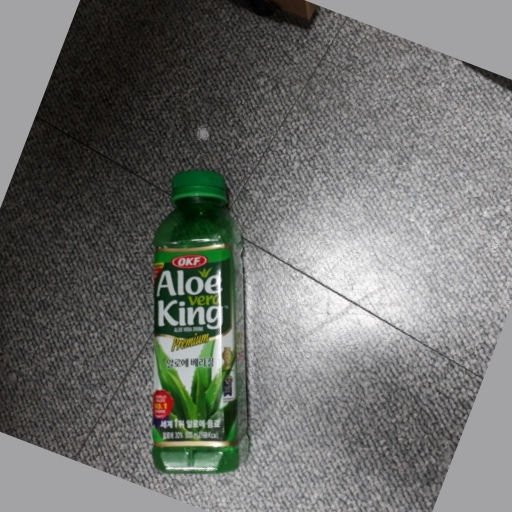Plastic_0: (152, 170, 244, 479)
